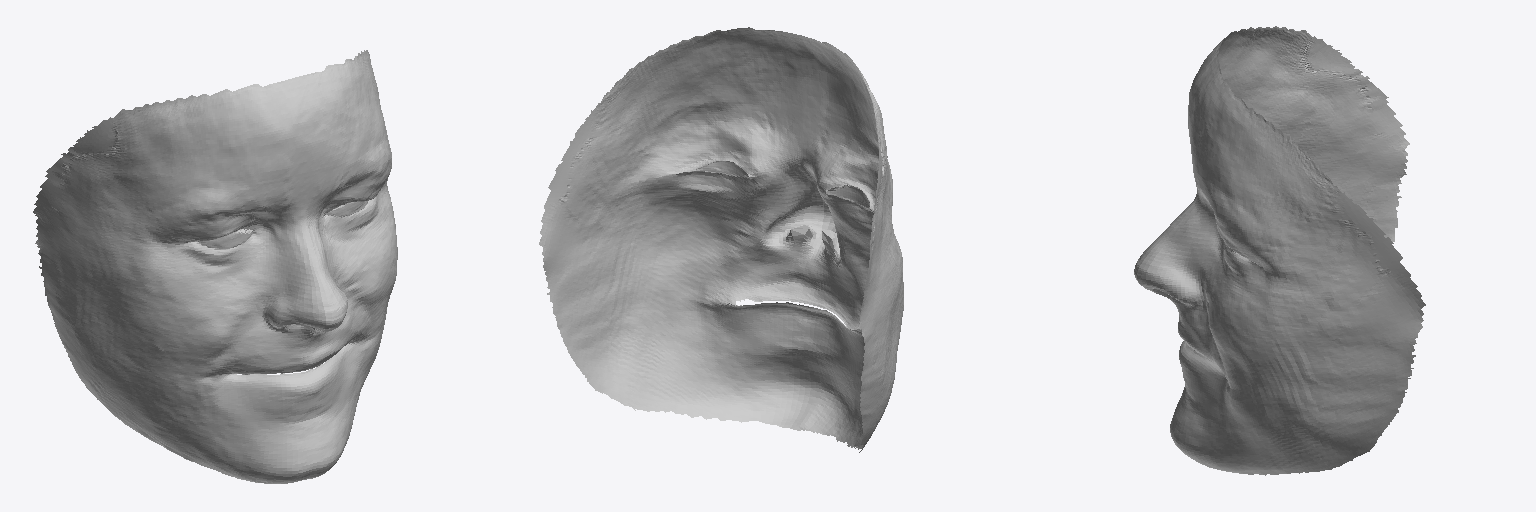
File: test_view_2_0_hrn_high_mesh.obj
The picture shows the model from 3 angles: view 1: azimuth 30°, elevation 25°; view 2: azimuth 150°, elevation 25°; view 3: azimuth 270°, elevation 25°; orthographic projection.
Bounding box in the file's own units: 1.43 × 1.72 × 1.14.